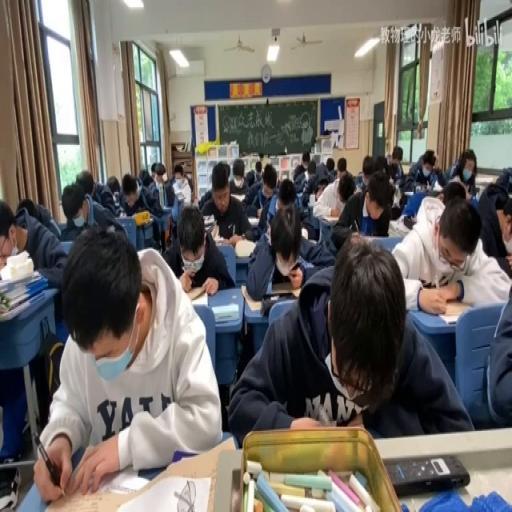calculator: (245, 278, 302, 308), (0, 289, 45, 320), (434, 299, 473, 320), (209, 226, 242, 248), (401, 276, 422, 307), (212, 302, 238, 322), (234, 238, 256, 256), (187, 288, 208, 304), (202, 215, 214, 232), (318, 213, 340, 222), (228, 192, 246, 202), (306, 195, 315, 212), (246, 214, 260, 224), (430, 181, 442, 192), (294, 186, 306, 196), (404, 189, 414, 199), (174, 192, 185, 201), (301, 227, 307, 239), (117, 211, 126, 216)
paper: (35, 222, 221, 500), (229, 238, 469, 444), (163, 205, 234, 296), (2, 196, 68, 292), (333, 168, 391, 247), (484, 270, 512, 427), (475, 166, 512, 266), (59, 176, 108, 244), (245, 164, 280, 236), (402, 146, 442, 190), (118, 170, 150, 218), (148, 162, 178, 209), (196, 161, 221, 209), (298, 159, 322, 205), (297, 202, 321, 240), (274, 176, 296, 212), (227, 156, 247, 194), (384, 144, 403, 182), (440, 181, 467, 206), (388, 184, 406, 218), (0, 228, 17, 263), (14, 196, 37, 220), (338, 175, 354, 205), (104, 175, 121, 202), (459, 155, 475, 183), (324, 155, 338, 181), (374, 154, 388, 176), (349, 232, 368, 246), (448, 159, 461, 179), (362, 165, 374, 185), (138, 166, 148, 184), (184, 172, 193, 191), (354, 174, 364, 190), (254, 159, 262, 178), (315, 184, 325, 199), (245, 170, 254, 186), (337, 158, 346, 173), (224, 161, 230, 176), (302, 158, 309, 169), (385, 150, 390, 164), (174, 174, 182, 182), (258, 152, 264, 159)
person: (385, 454, 470, 496), (403, 214, 416, 230), (414, 183, 422, 192)
